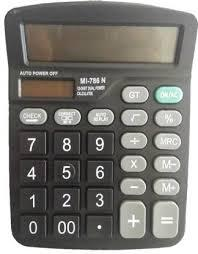Calculator: (0, 1, 198, 254)
